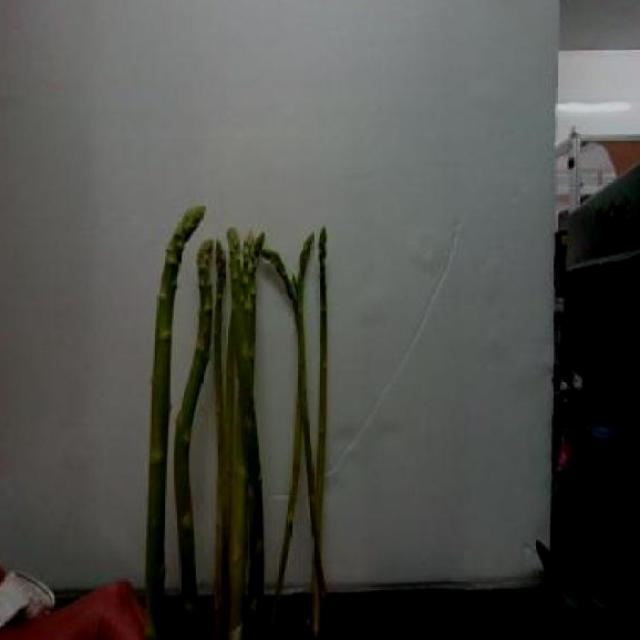aspargus: (145, 202, 210, 639), (172, 235, 220, 640)
